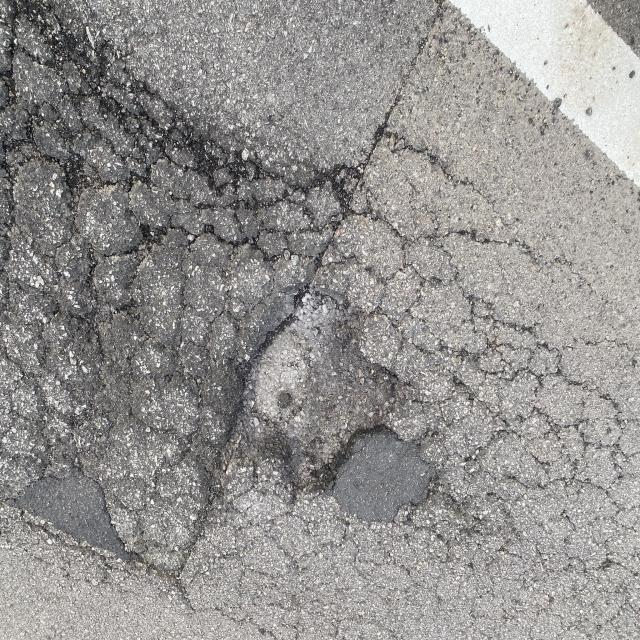Pothole: (191, 192, 429, 581)
